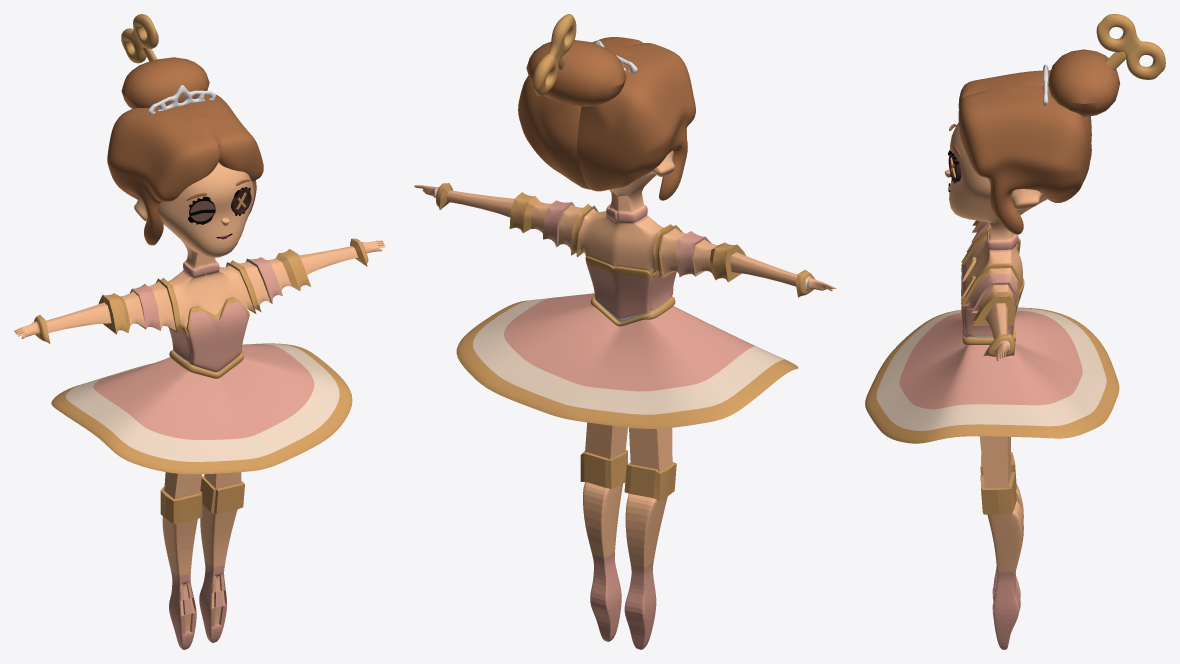
The model's file is Ballerine.fbx.
3 views of the same model, side by side, from view 1: azimuth 30°, elevation 25°; view 2: azimuth 150°, elevation 25°; view 3: azimuth 270°, elevation 25° (orthographic). The views are drawn at different scales.
Parts seen in each view (by area): view 1: Head, Hair, Key, Eyes, Crown; view 2: Head, Hair, Key; view 3: Head, Hair, Key.
Part boxes in pixels (box(x1,y1,x2,y2)): Head: box(14, 162, 385, 649); Hair: box(107, 57, 263, 245); Key: box(121, 14, 158, 63); Eyes: box(188, 187, 251, 224); Crown: box(148, 85, 215, 114); Head: box(414, 129, 836, 649); Hair: box(518, 37, 695, 200); Key: box(533, 14, 576, 95); Head: box(865, 122, 1119, 649); Hair: box(958, 49, 1120, 234); Key: box(1096, 14, 1165, 79).
Bounding box in the file's own units: 259 × 397 × 173.
